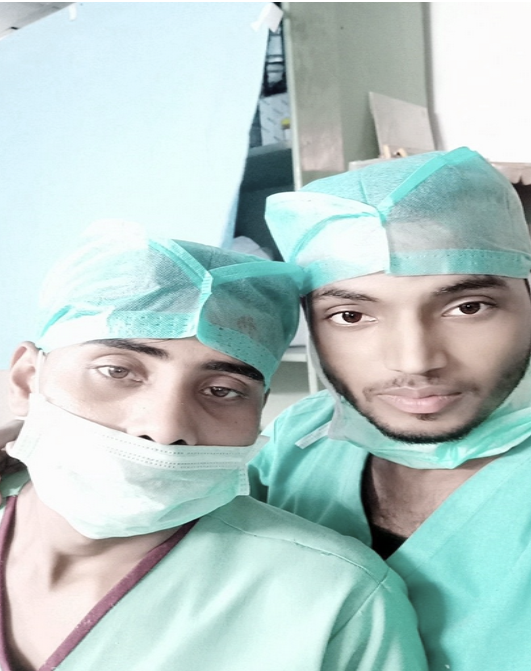mask_weared_incorrect: (19, 216, 302, 543), (271, 151, 531, 449)
